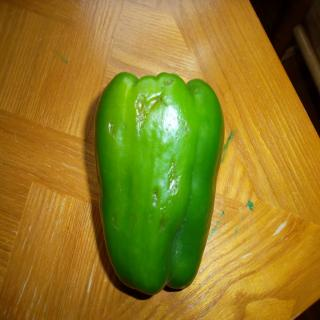Bell pepper: (94, 72, 225, 300)
